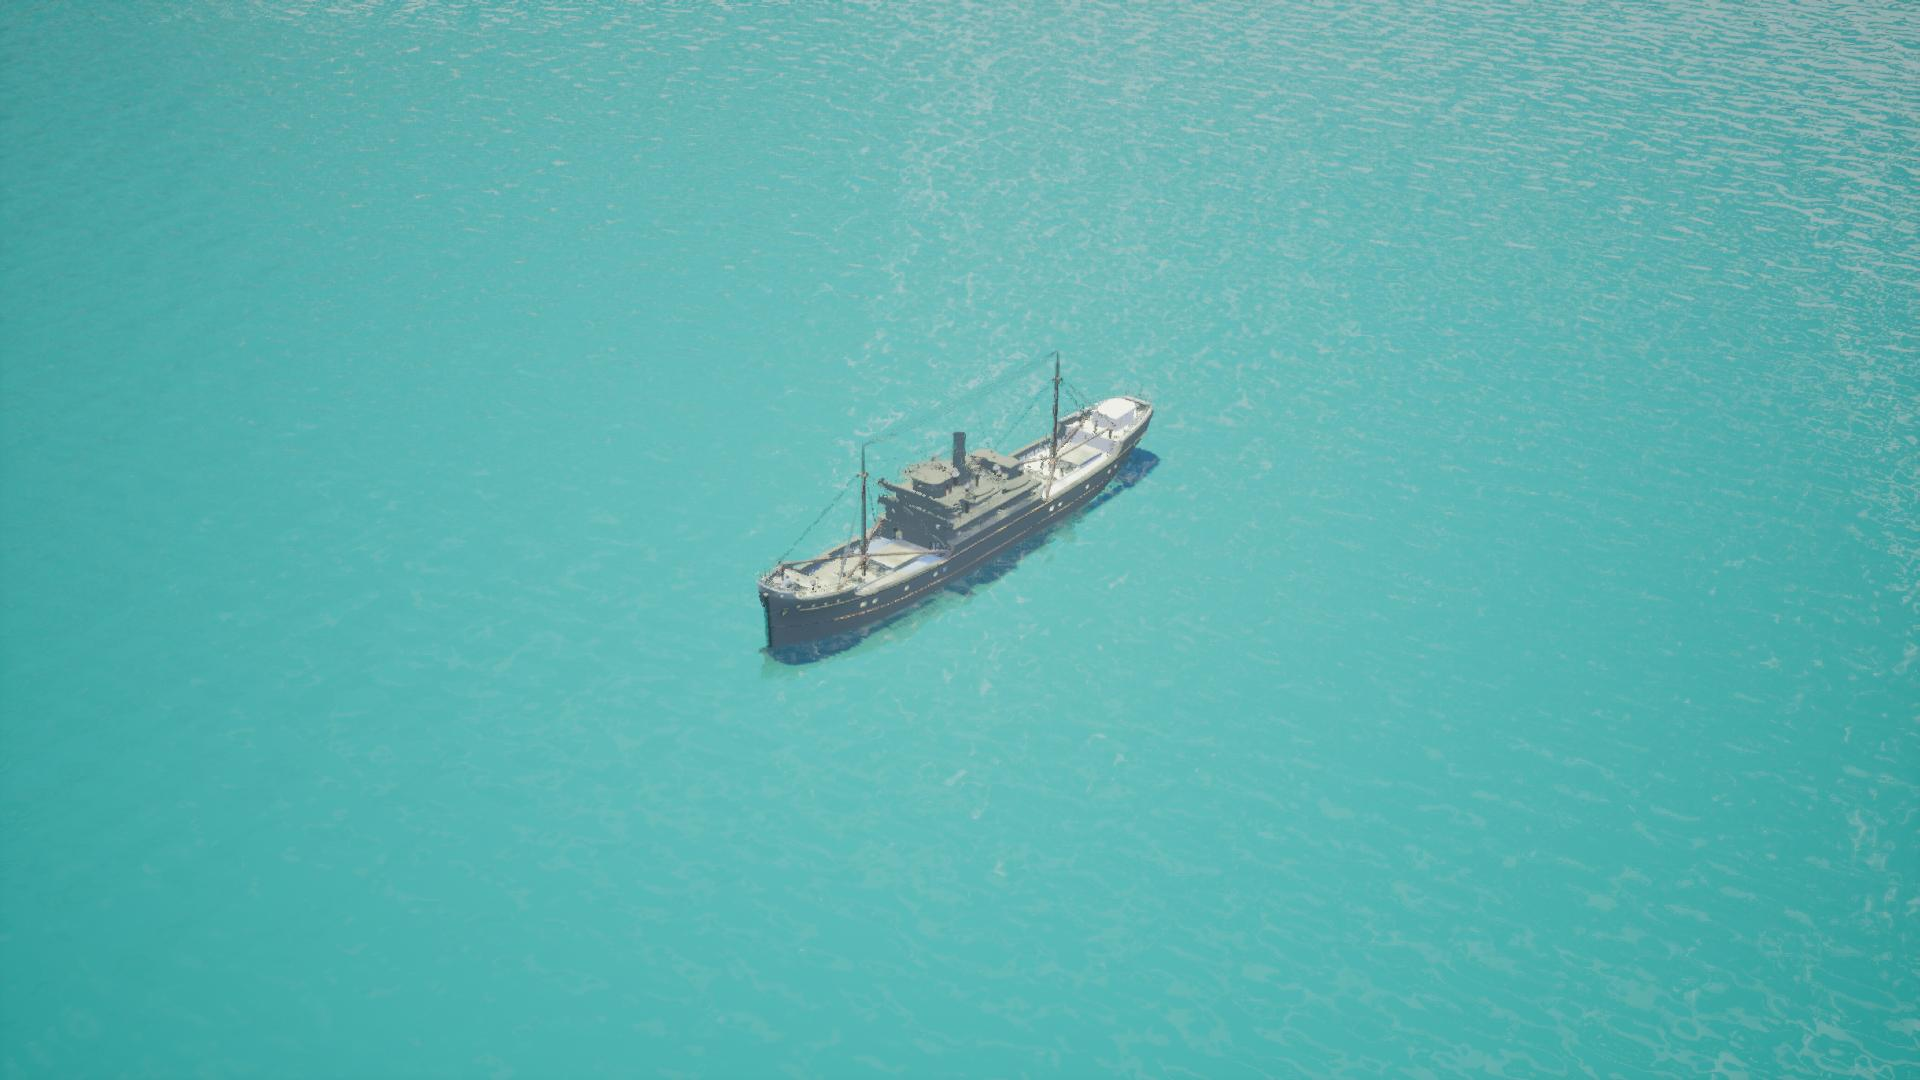Fishing Boat: (753, 394, 1164, 664)
